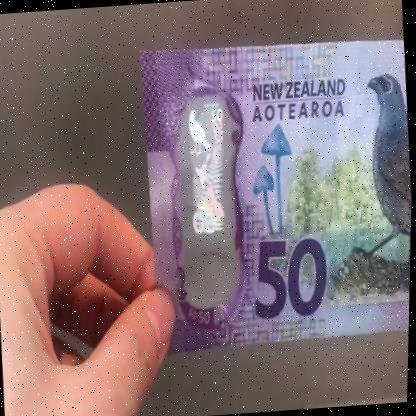50B: (183, 101, 239, 296)
